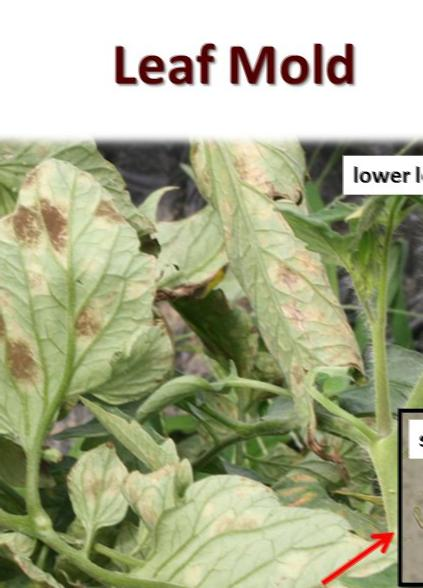Tomato mold leaf: (172, 143, 362, 430), (0, 153, 162, 455), (117, 458, 423, 588), (57, 439, 135, 539)
